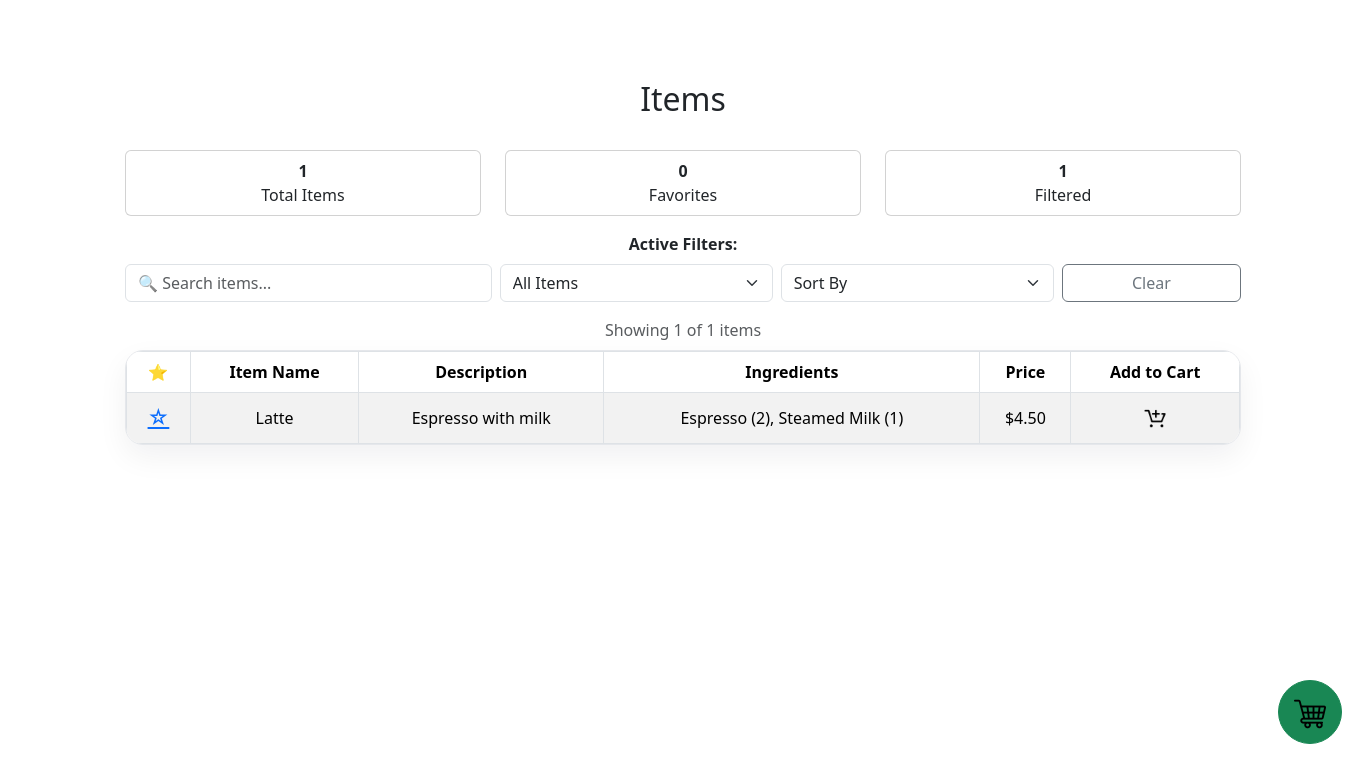
ListItemsComponent › adds an item to the cart and shows it in the cart modal
Expected: the text "Latte" is shown, [190, 393, 359, 443]
Step 1. Click the button named "add latte to cart" → (1155,418), box [1142, 404, 1168, 432]
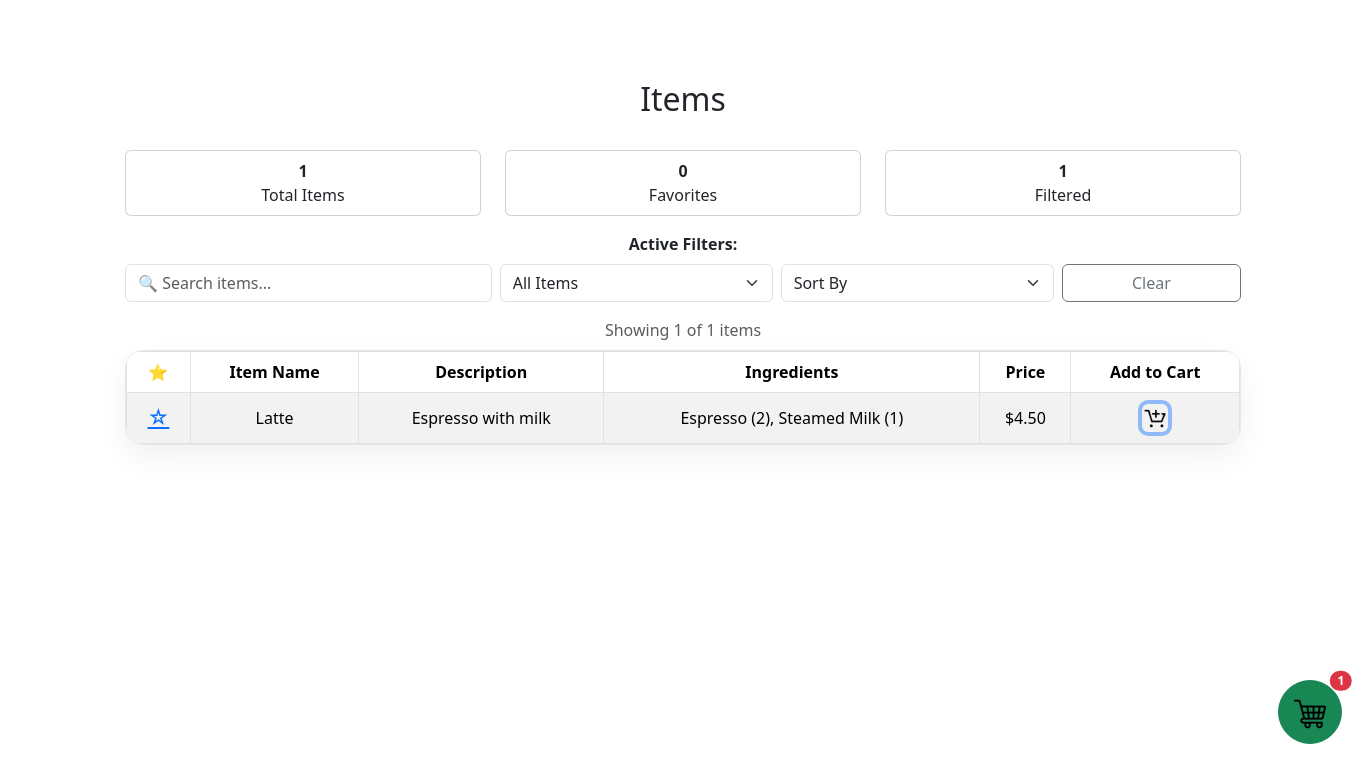
Step 2. Click the button named "open cart" → (1310,712), box [1278, 680, 1342, 744]
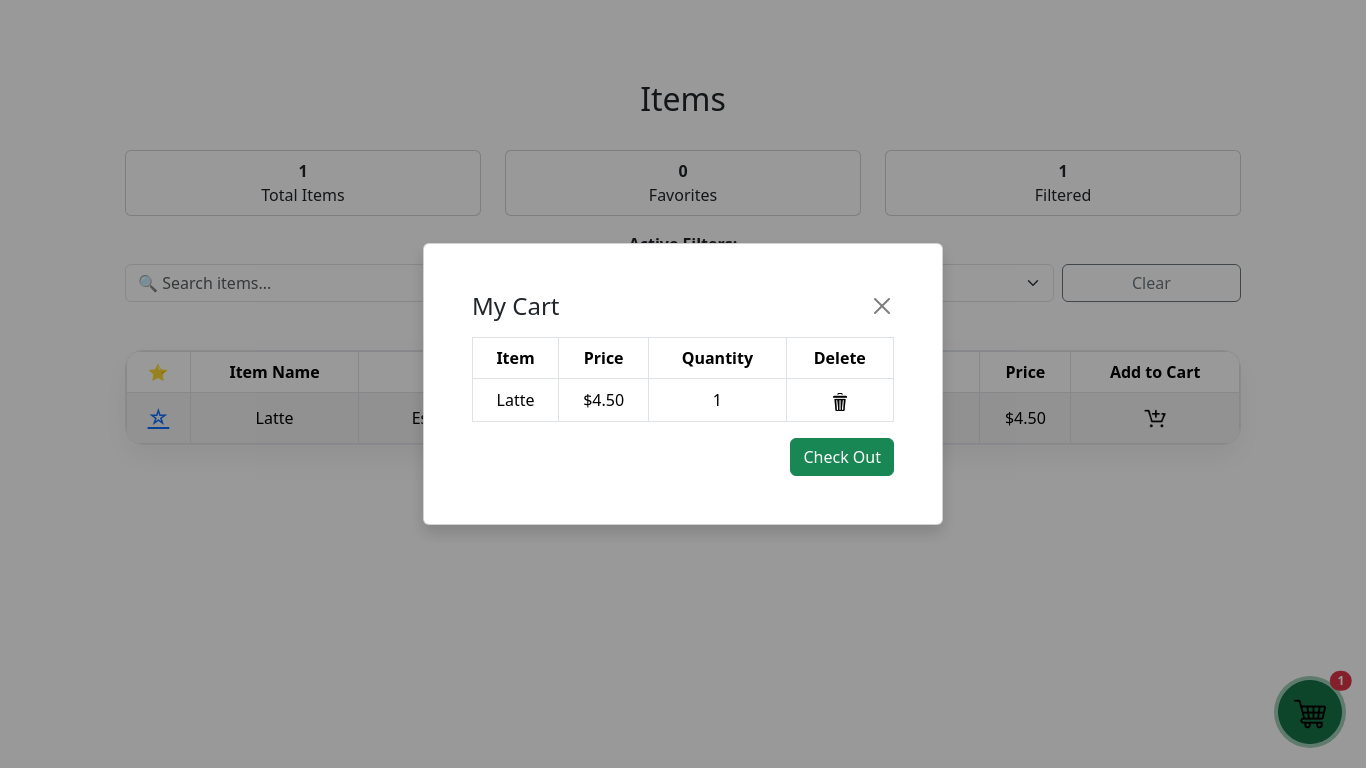
Now the heading "My Cart" is shown, box [472, 292, 560, 320]
Now the text "Latte" is shown, box [472, 378, 559, 422]
Now the text "$4.50" is shown, box [559, 378, 649, 422]
